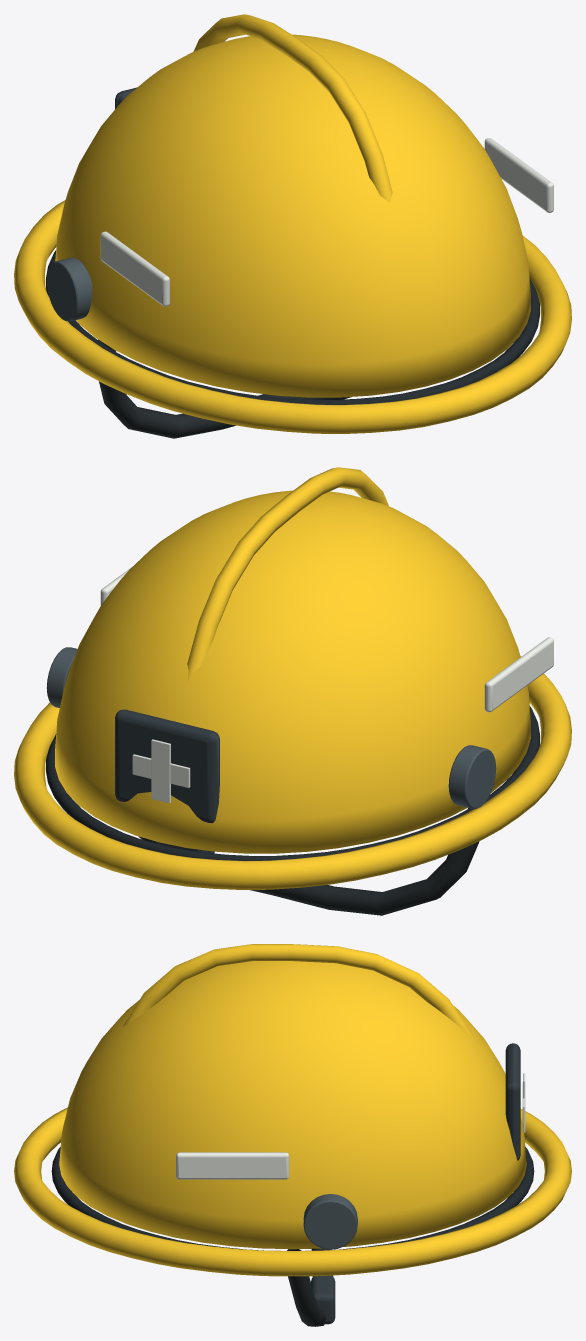
Rendered from rescue_helmet.glb.
The picture shows the model from 3 angles, top to bottom: view 1: azimuth 30°, elevation 25°; view 2: azimuth 150°, elevation 25°; view 3: azimuth 270°, elevation 25°; orthographic projection. The views are drawn at different scales.
Visible parts, largest first — view 1: rescue_helmet_render_mesh; view 2: rescue_helmet_render_mesh; view 3: rescue_helmet_render_mesh.
Boxes of the visible parts, box(x1,y1,x2,y2) form: rescue_helmet_render_mesh: box(14, 14, 571, 438); rescue_helmet_render_mesh: box(14, 467, 571, 915); rescue_helmet_render_mesh: box(14, 944, 571, 1326).
Size of the model in its own units: 0.308 by 0.2497 by 0.37.
